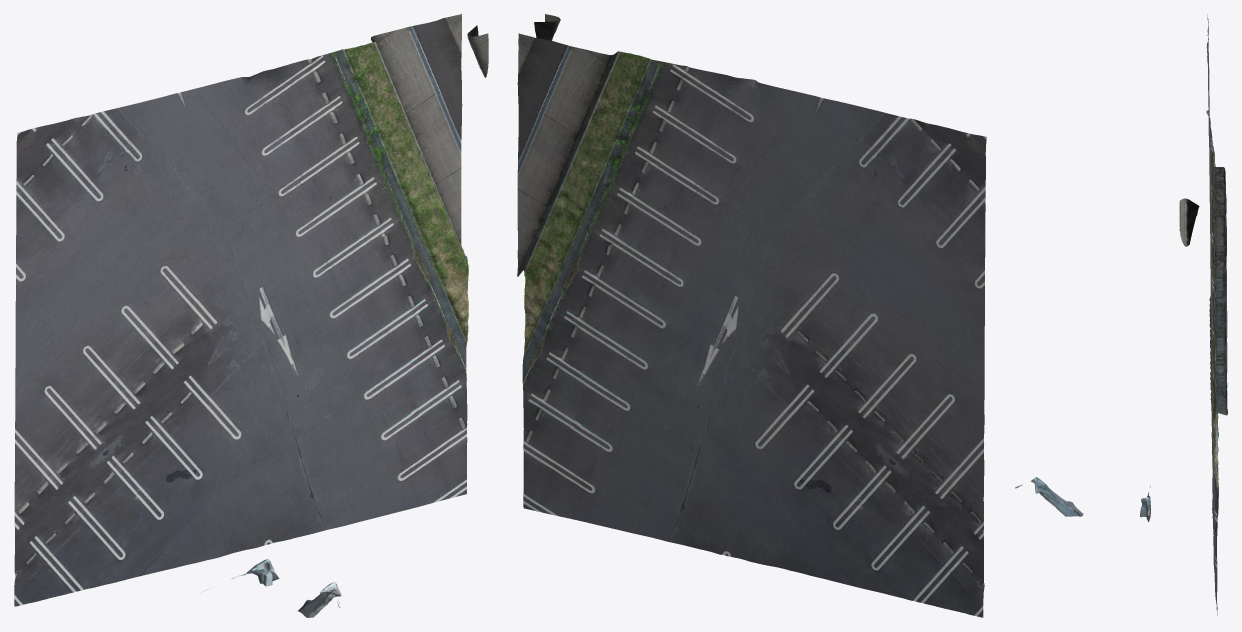
The model's file is Tile_+019_+019.fbx.
The picture shows the model from 3 angles, left to right: view 1: azimuth 30°, elevation 25°; view 2: azimuth 150°, elevation 25°; view 3: azimuth 270°, elevation 25°; orthographic projection. The views are drawn at different scales.
Visible parts, largest first — view 1: DefaultName; view 2: DefaultName; view 3: DefaultName.
Boxes of the visible parts, box(x1,y1,x2,y2) form: DefaultName: box(14, 14, 488, 617); DefaultName: box(517, 14, 986, 617); DefaultName: box(1015, 14, 1227, 615).
Bounding box in the file's own units: 22.54 × 22.54 × 10.56.
